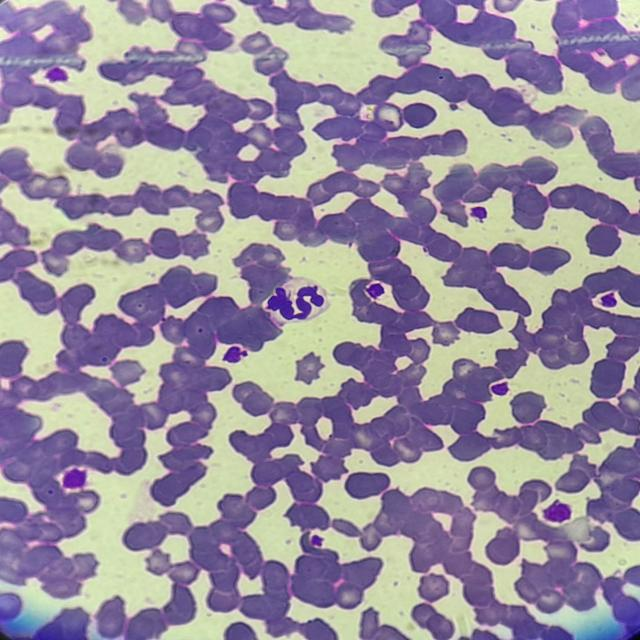Neutrofilo: (260, 276, 332, 331)
